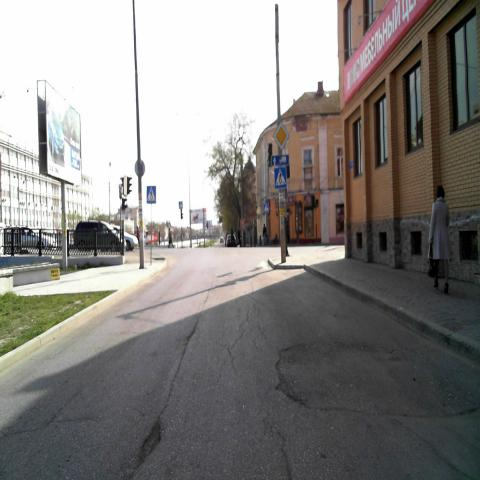6_15_1: (271, 154, 289, 166)
